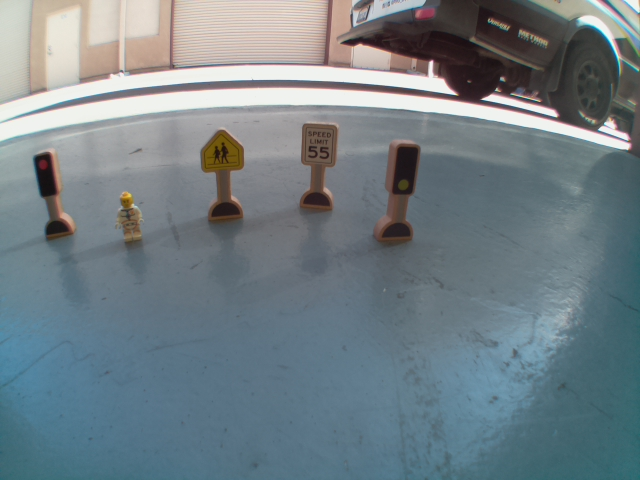Green Traffic Light: (387, 137, 420, 199)
Red Traffic Light: (27, 148, 64, 200)
Speed Limit 55: (295, 119, 344, 169)
YIELD: (198, 121, 254, 174)
person: (107, 190, 149, 242)
